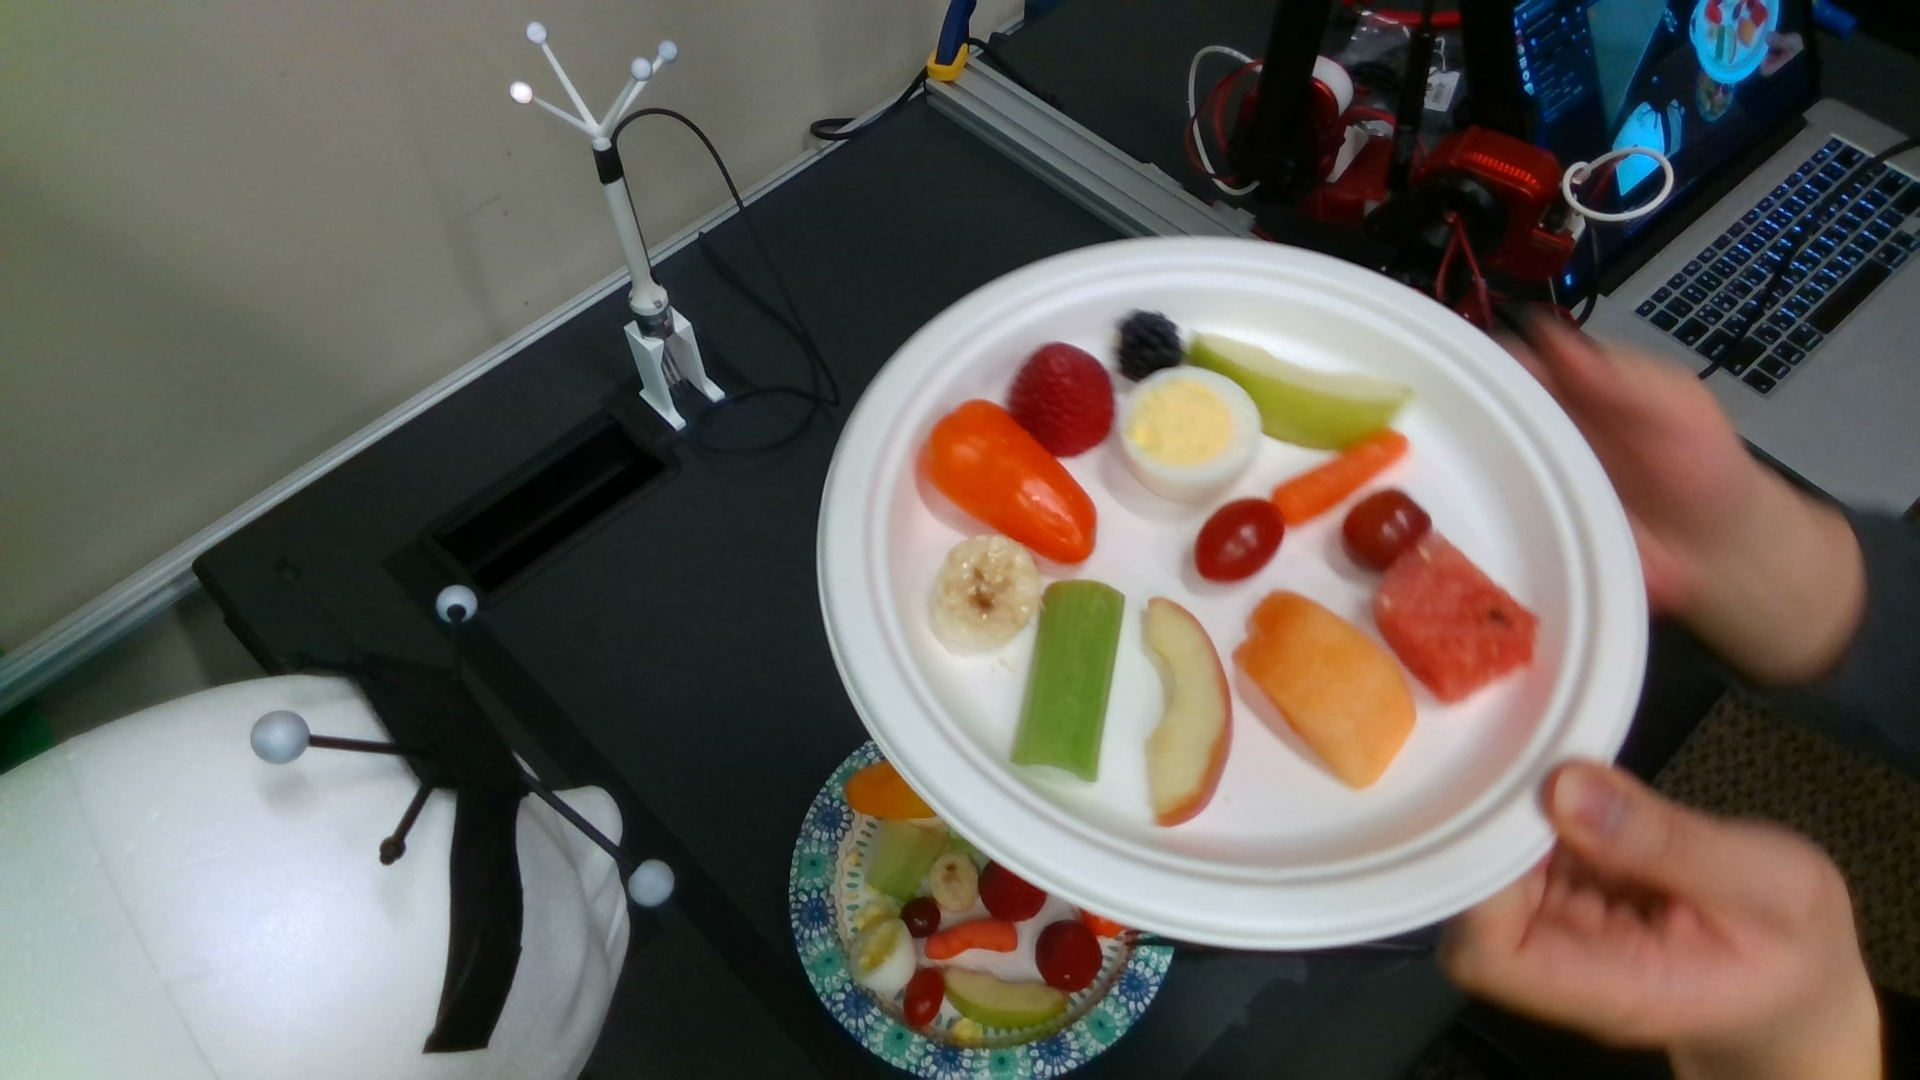apple: (1189, 334, 1414, 451), (1147, 599, 1230, 827), (942, 965, 1069, 1025)
banana: (934, 539, 1040, 644), (930, 853, 977, 913)
bell pepper: (927, 404, 1098, 560)
blackberry: (1120, 310, 1182, 382)
cantalope: (1250, 597, 1414, 787)
carrot: (1276, 430, 1407, 525), (927, 919, 1015, 959)
celery: (1013, 580, 1124, 783), (870, 822, 943, 898)
cherry tomato: (1193, 500, 1283, 582), (907, 969, 944, 1025)
egg: (1124, 368, 1259, 496), (852, 918, 913, 989)
grape: (1342, 491, 1429, 568), (901, 898, 939, 936)
melon: (1386, 549, 1535, 699)
strawberry: (1013, 347, 1113, 455), (981, 853, 1047, 920), (1038, 922, 1100, 990)
